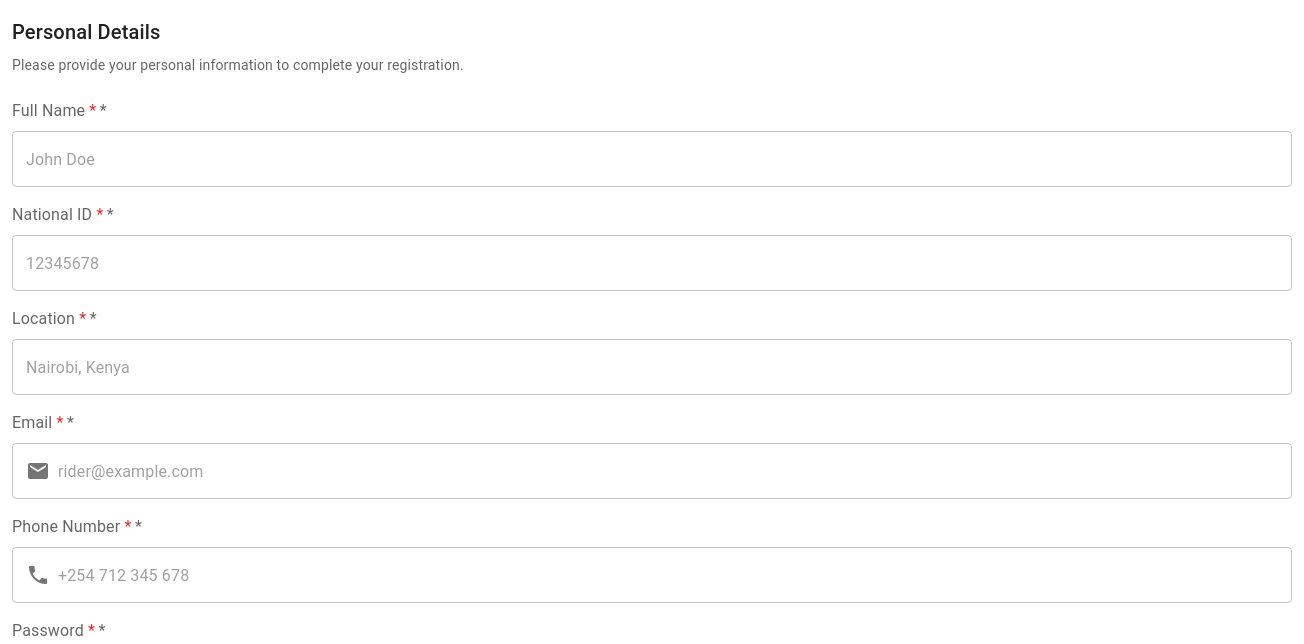
Test: PersonalDetailsStep › Required fields validation › should show validation error when location is empty and touched
The width and height of the screenshot is (1304, 644).
Click the field named "Location": [652, 367] box [12,339,1292,395]
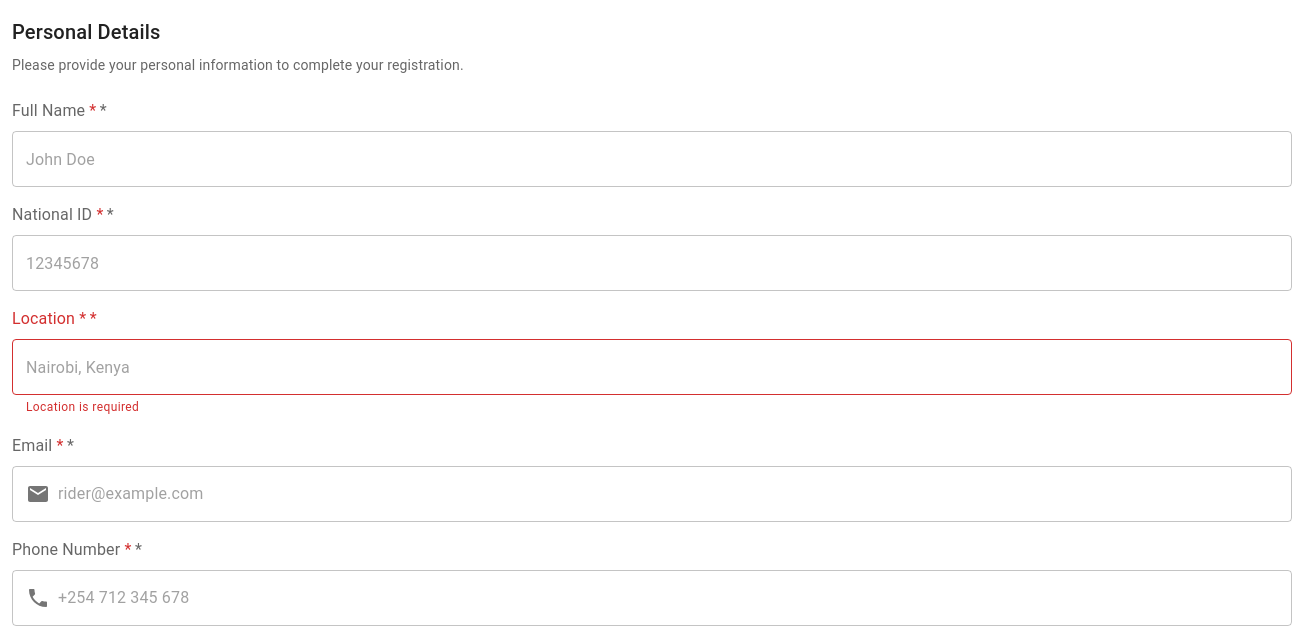
Now the text "Location is required" is shown, box [26,400,139,414]
